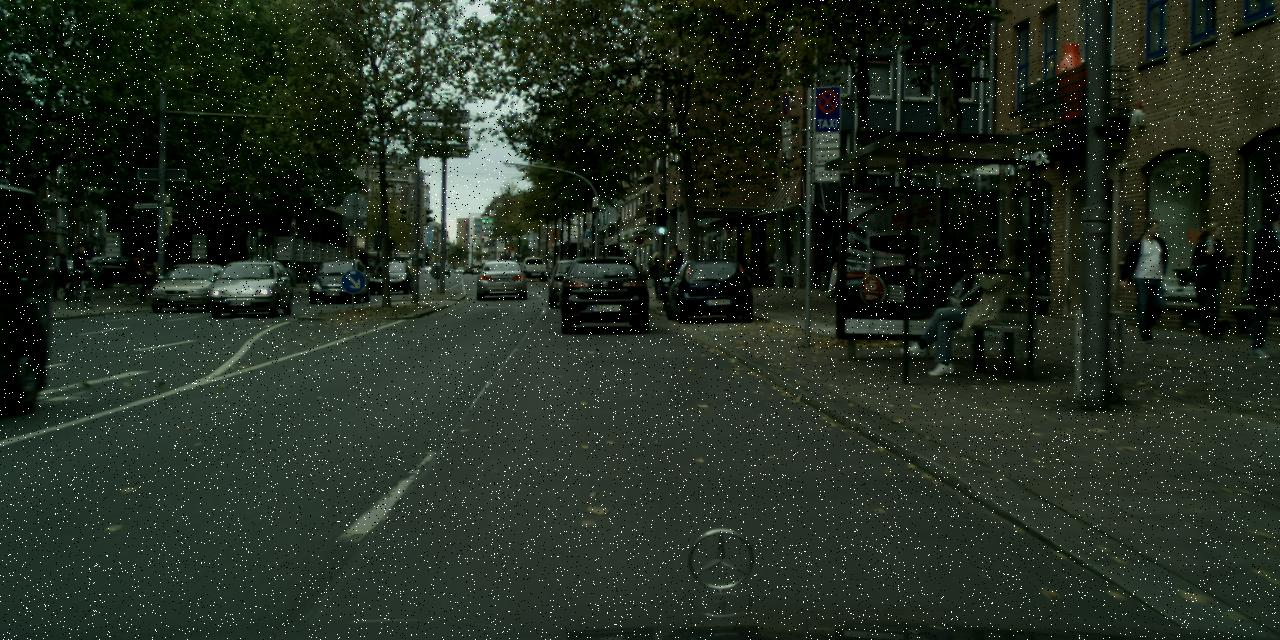ped: (1124, 218, 1175, 344), (1188, 221, 1234, 333), (1247, 205, 1279, 357), (52, 246, 72, 298), (69, 245, 89, 296), (665, 243, 685, 293), (649, 251, 668, 298), (134, 248, 152, 294), (662, 252, 679, 296), (178, 252, 192, 290)
